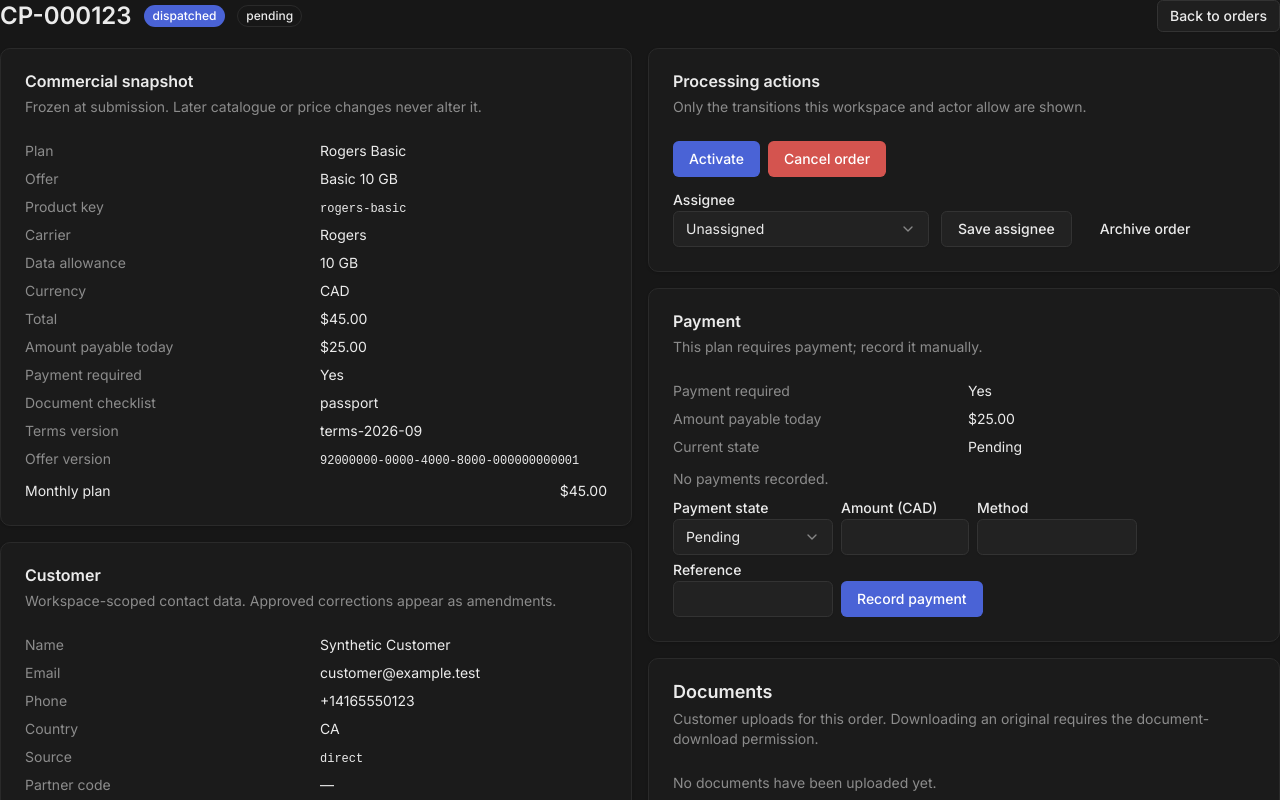
Test: OrderDetailView activation confirmation › sends nothing until activation is confirmed, and nothing when the dialog is closed
The width and height of the screenshot is (1280, 800).
Check: the heading "CP-000123" is shown, box [0,0,132,32]
Click the button "Activate": (716, 159) [673,141,760,177]
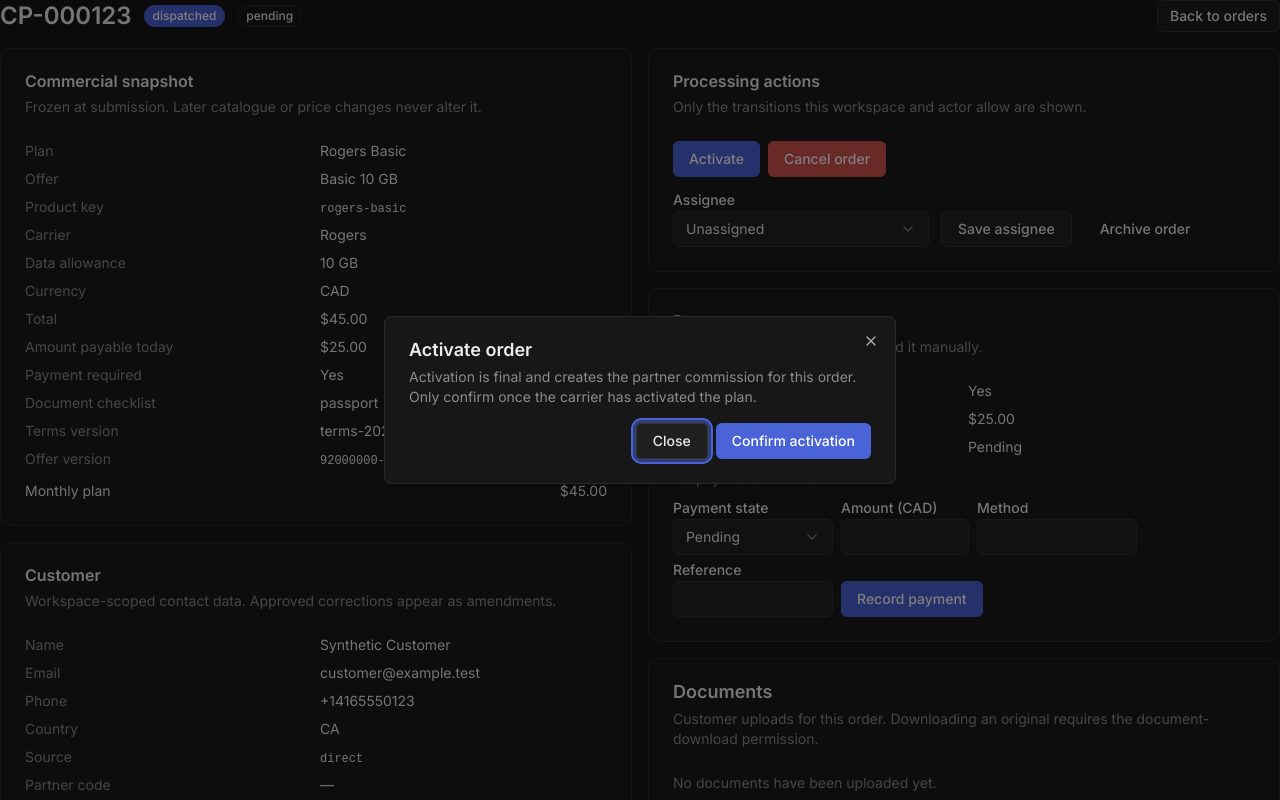
Check: the button "Confirm activation" is shown, box [716,423,871,459]
Click the button named "Close": (871, 341) [863,333,879,349]
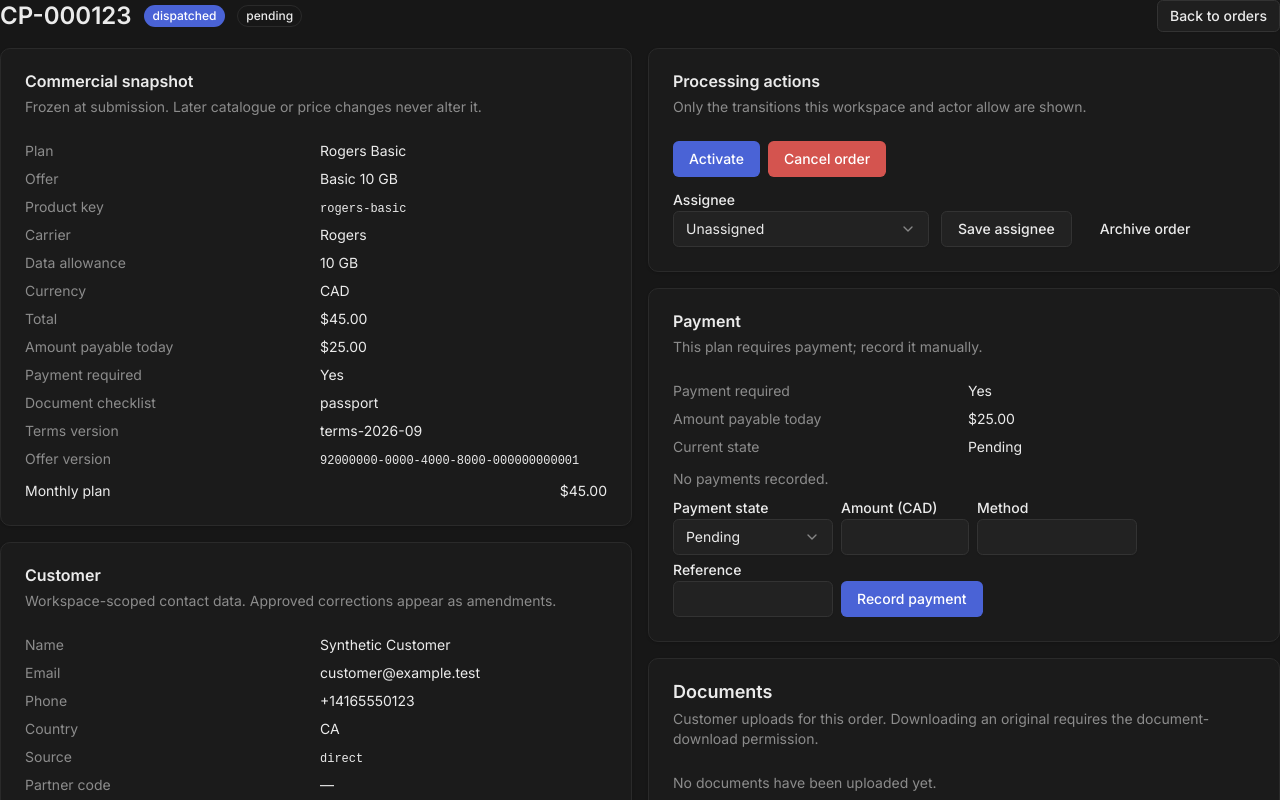
Check: the button "Confirm activation" is gone
